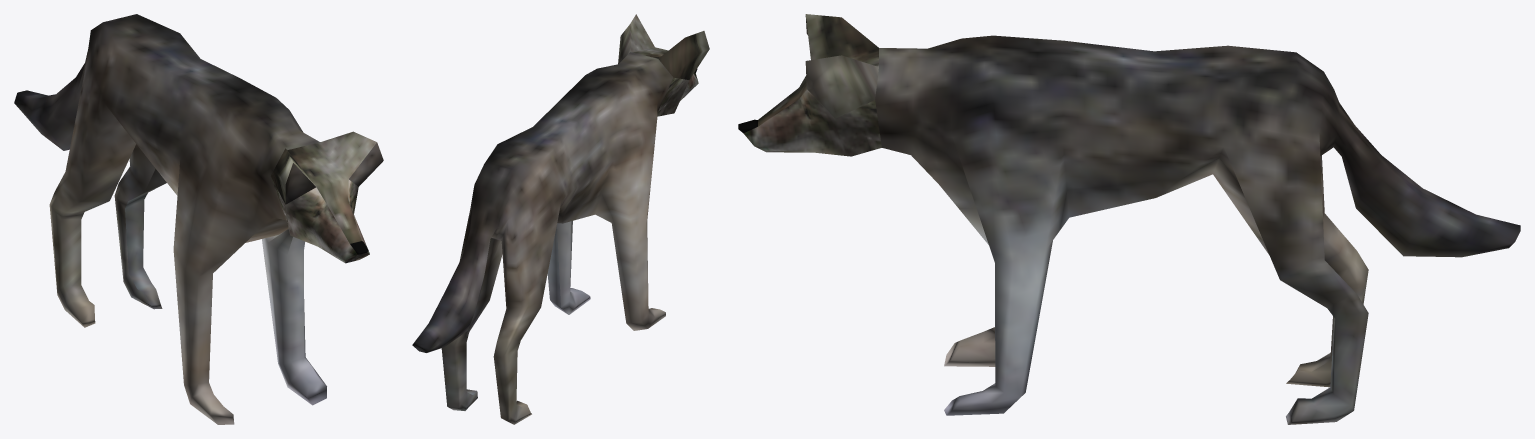
The model's file is coyote.fbx.
3 renders of one model, left to right at view 1: azimuth 30°, elevation 25°; view 2: azimuth 150°, elevation 25°; view 3: azimuth 270°, elevation 25°, orthographic. The views are drawn at different scales.
Parts seen in each view (by area): view 1: coyote; view 2: coyote; view 3: coyote.
Part boxes in pixels (x1=…): coyote: x1=14, y1=14, x2=383, y2=424; coyote: x1=412, y1=14, x2=709, y2=424; coyote: x1=738, y1=14, x2=1520, y2=424.
Size of the model in its own units: 8.5 by 21.32 by 41.12.
